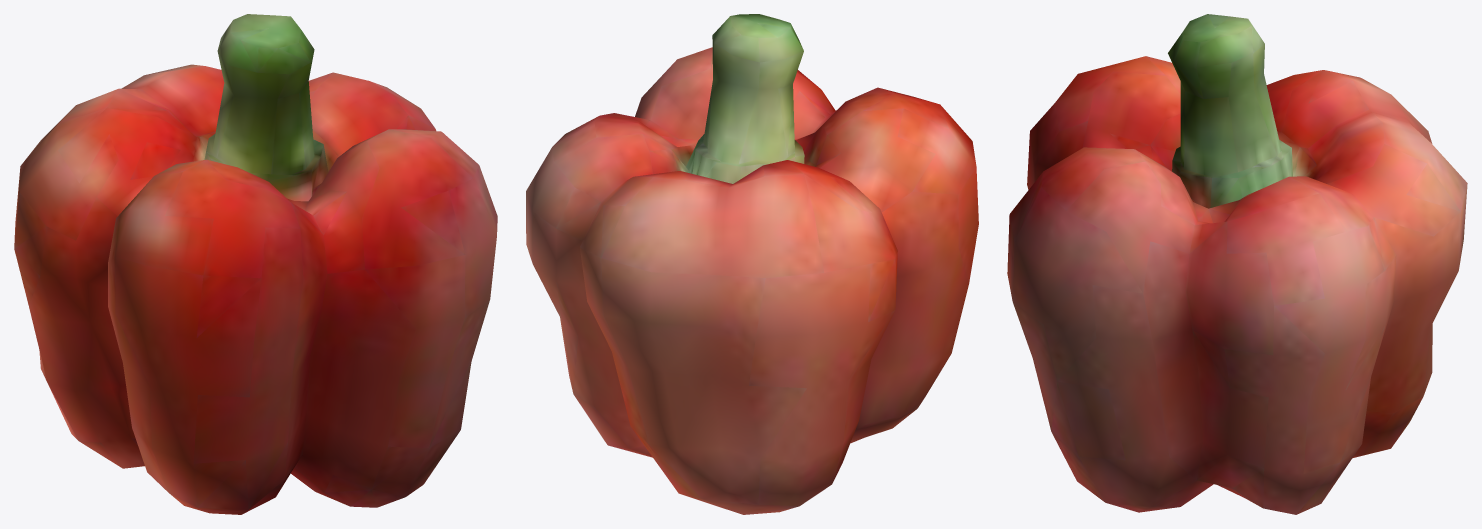
The model's file is bell-pepper.glb.
3 views of the same model, side by side, from view 1: azimuth 30°, elevation 25°; view 2: azimuth 150°, elevation 25°; view 3: azimuth 270°, elevation 25° (orthographic). The views are drawn at different scales.
Visible parts, largest first — view 1: Bell Pepper; view 2: Bell Pepper; view 3: Bell Pepper.
Boxes of the visible parts, x1,y1,x2,y2 form: Bell Pepper: (14, 14, 497, 514); Bell Pepper: (526, 14, 978, 514); Bell Pepper: (1007, 14, 1467, 514).
Size of the model in its own units: 1.57 by 1.81 by 1.66.
Materials: 1 (1 with a texture image).
